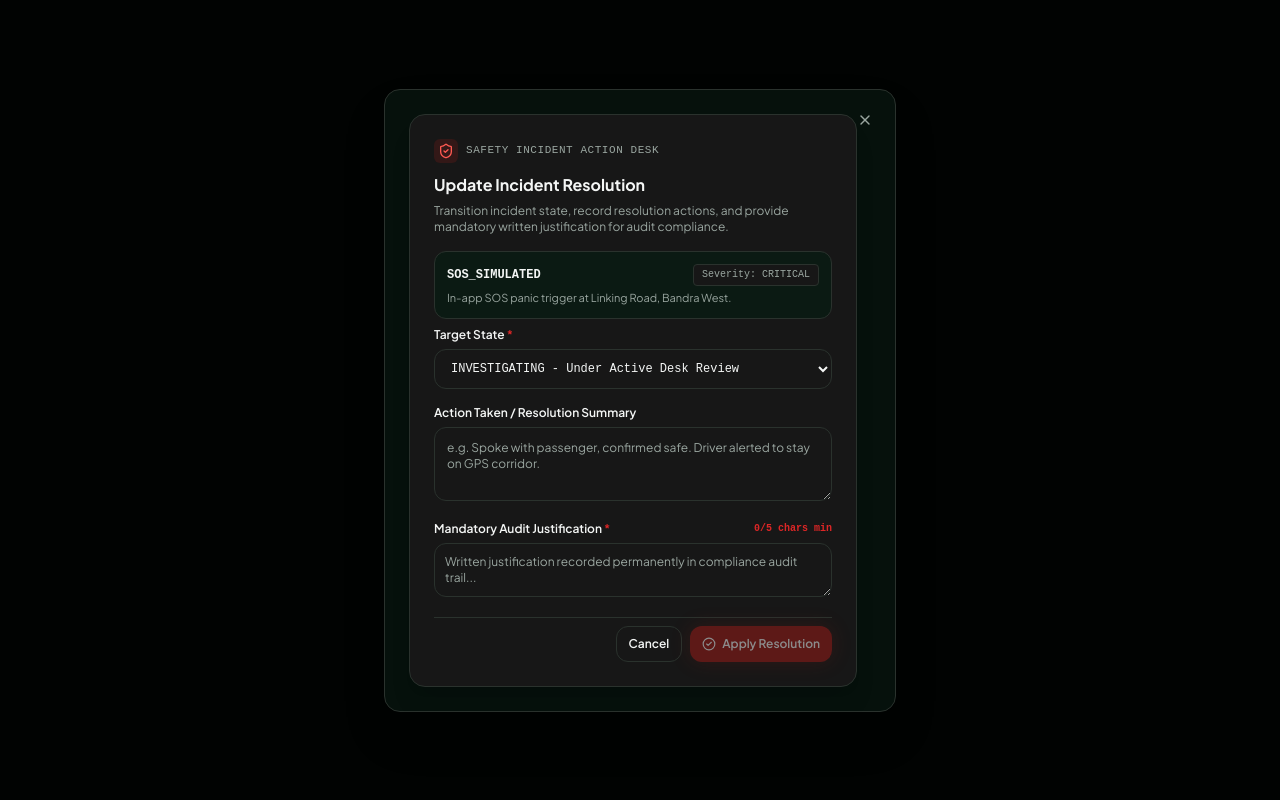
Test case: Safety Components Suite › ResolveIncidentDialog › requires mandatory audit justification (>= 5 chars) before allowing submit
This screenshot has width=1280, height=800.
Expected: the heading "Update Incident Resolution" is shown, x1=434 y1=174 x2=645 y2=194
Expected: the button "Apply Resolution" is disabled, x1=690 y1=626 x2=832 y2=662
Replace the text in the text box with placeholder "Written justification recorded permanently" with "test" at [633, 570], box x1=434 y1=542 x2=832 y2=596
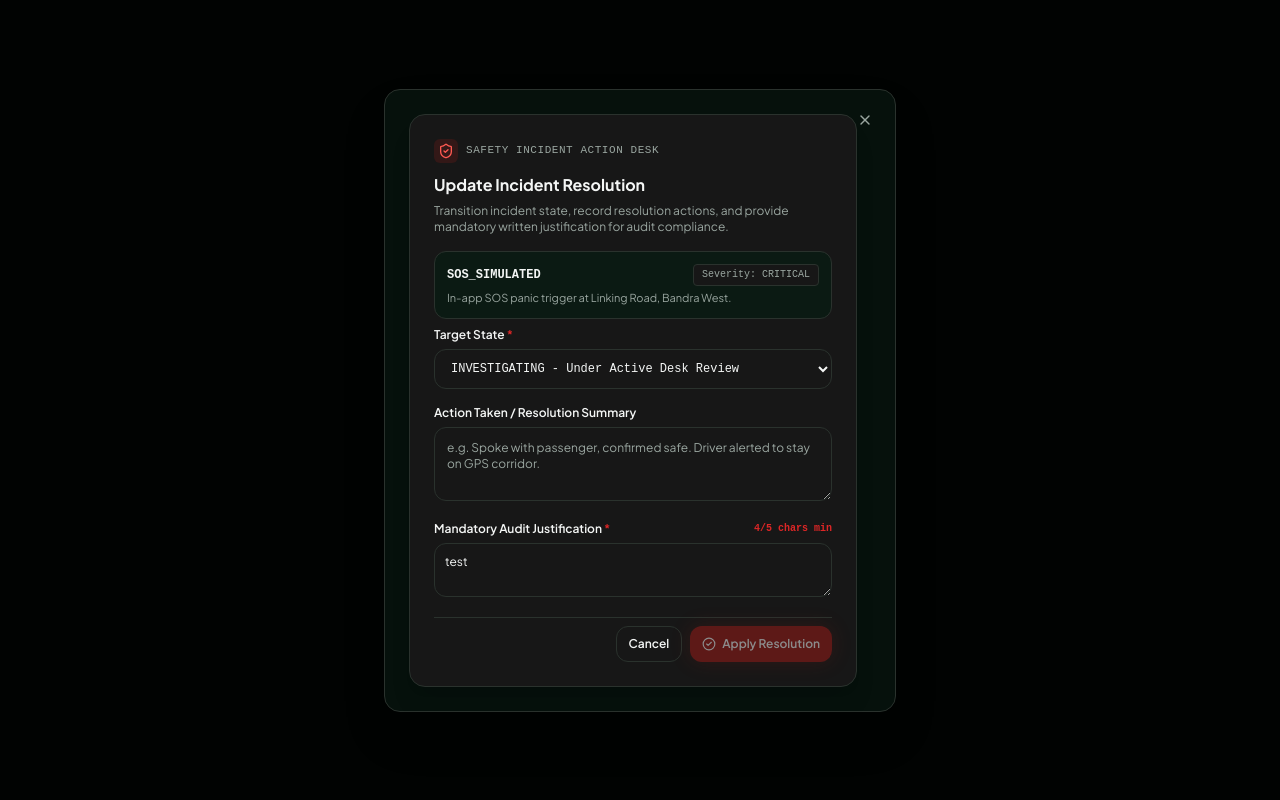
Expected: the button "Apply Resolution" is disabled, x1=690 y1=626 x2=832 y2=662
Replace the text in the text box with placeholder "Written justification recorded permanently" with "Verified passenger safe on phone" at [633, 570], box x1=434 y1=542 x2=832 y2=596
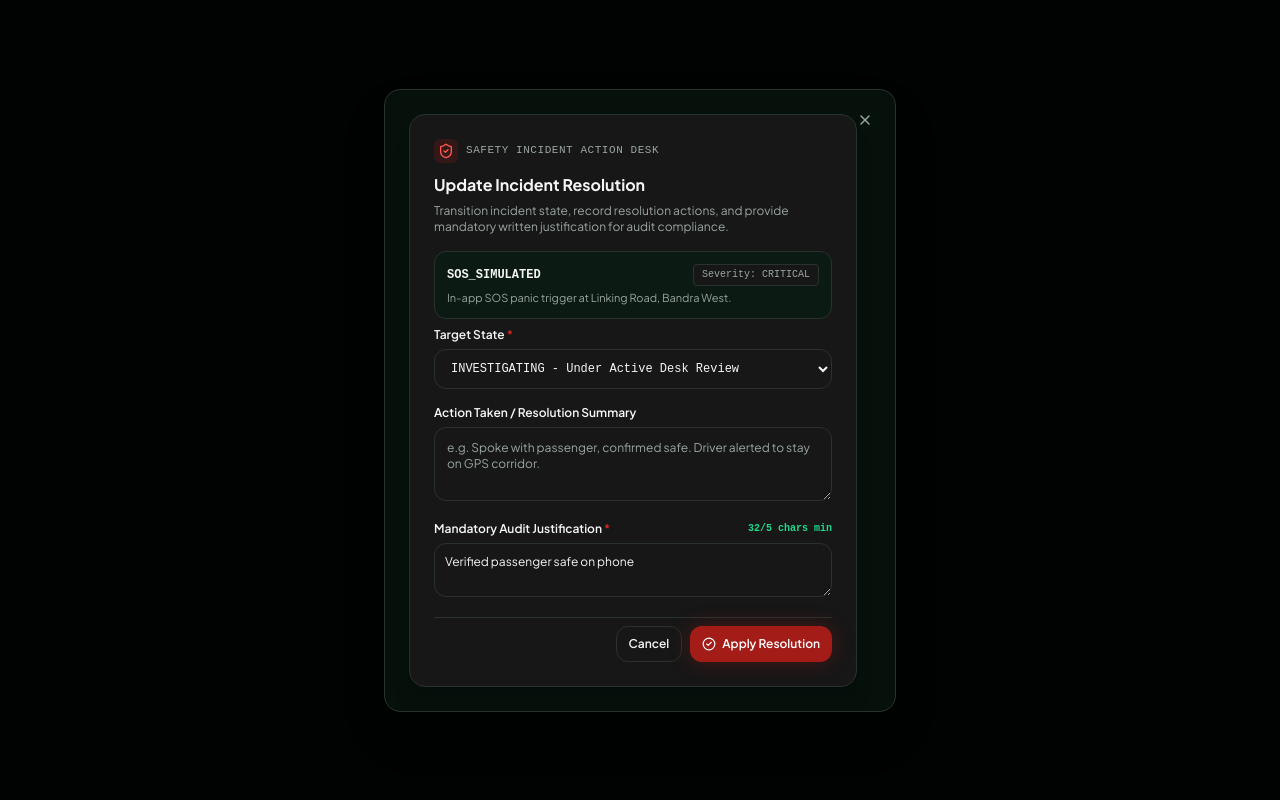
Expected: the button "Apply Resolution" is enabled, x1=690 y1=626 x2=832 y2=662
